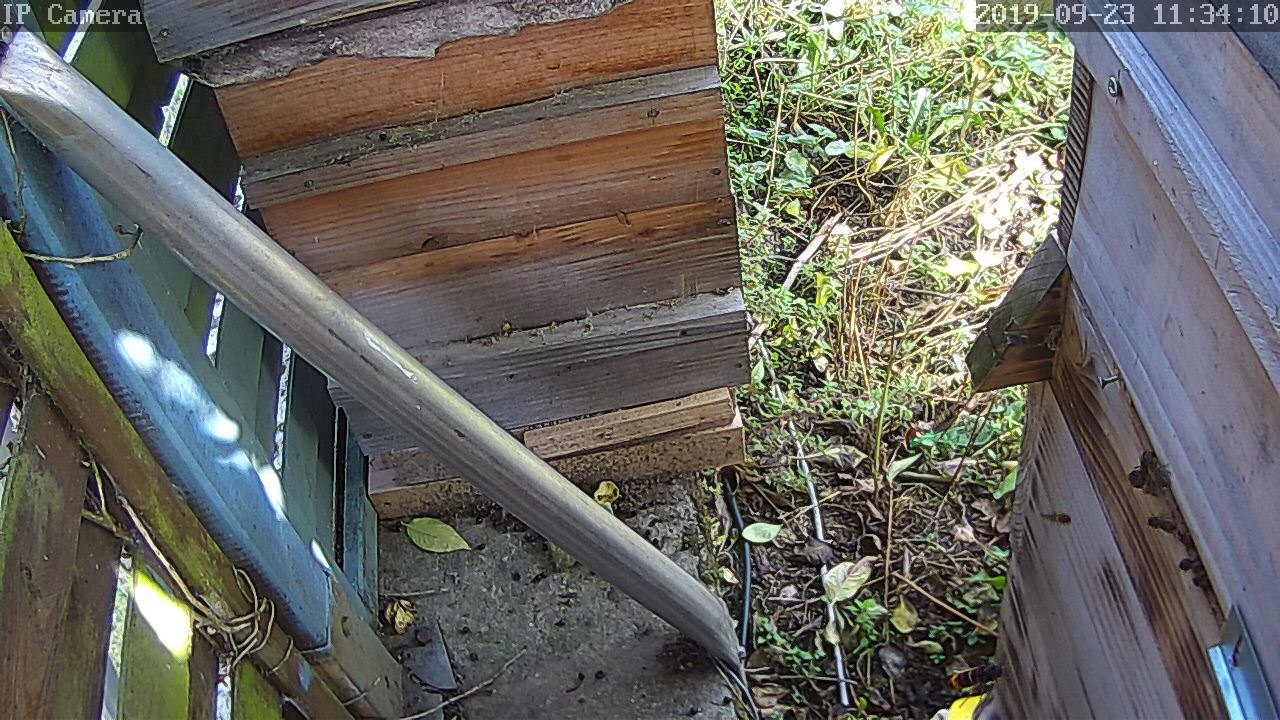bee: (1128, 453, 1169, 494), (1026, 504, 1072, 535), (1177, 552, 1215, 586), (1154, 507, 1192, 536)
hornet: (937, 645, 1003, 709)
